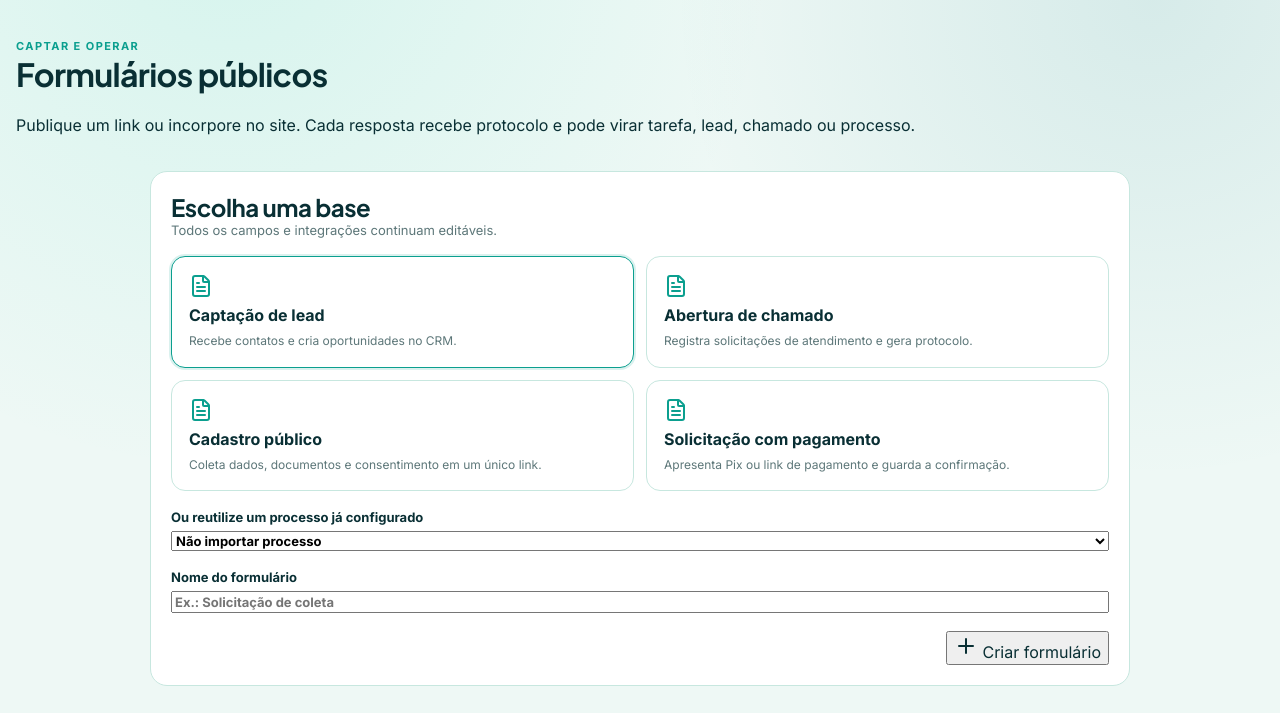
interface de formulários públicos › cria um formulário a partir do processo existente
Step 1. Select "Solicitação de coleta" in the dropdown labelled "Ou reutilize um processo já configurado" → (640, 541), box [171,531,1109,551]
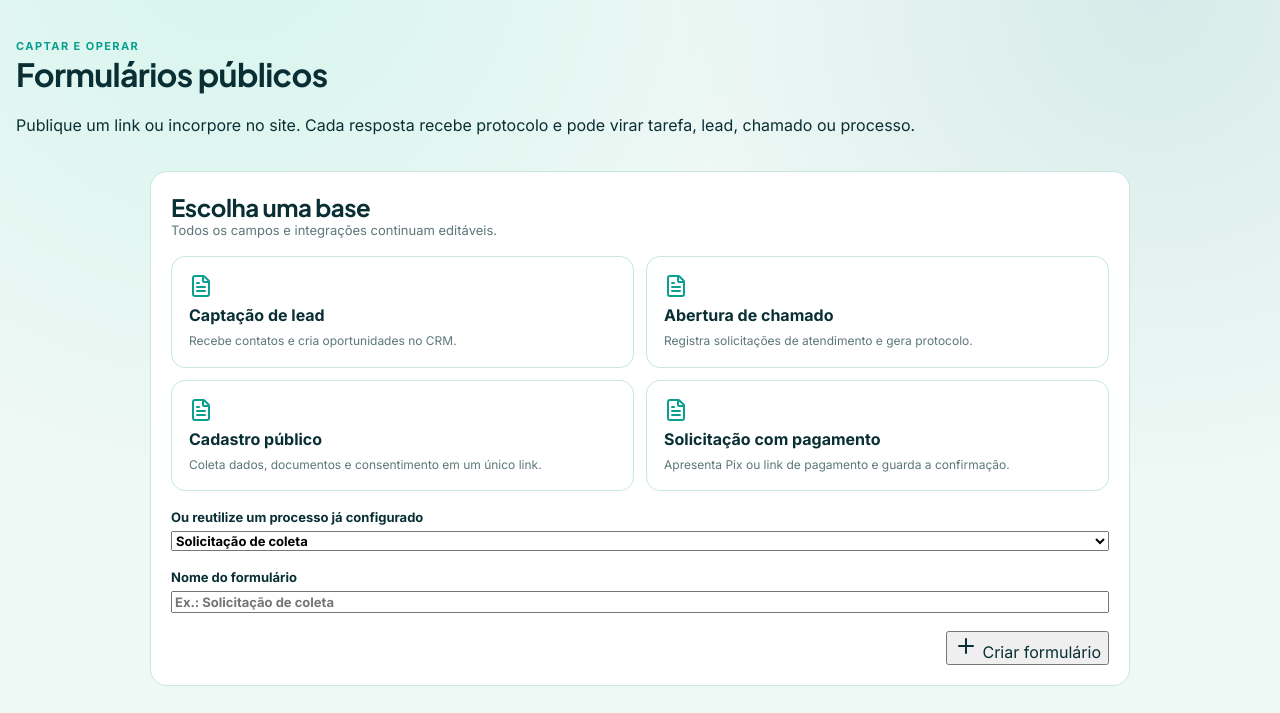
Step 2. Click the button "Criar formulário" → (1027, 648), box [946,631,1109,665]
(page scrolled)
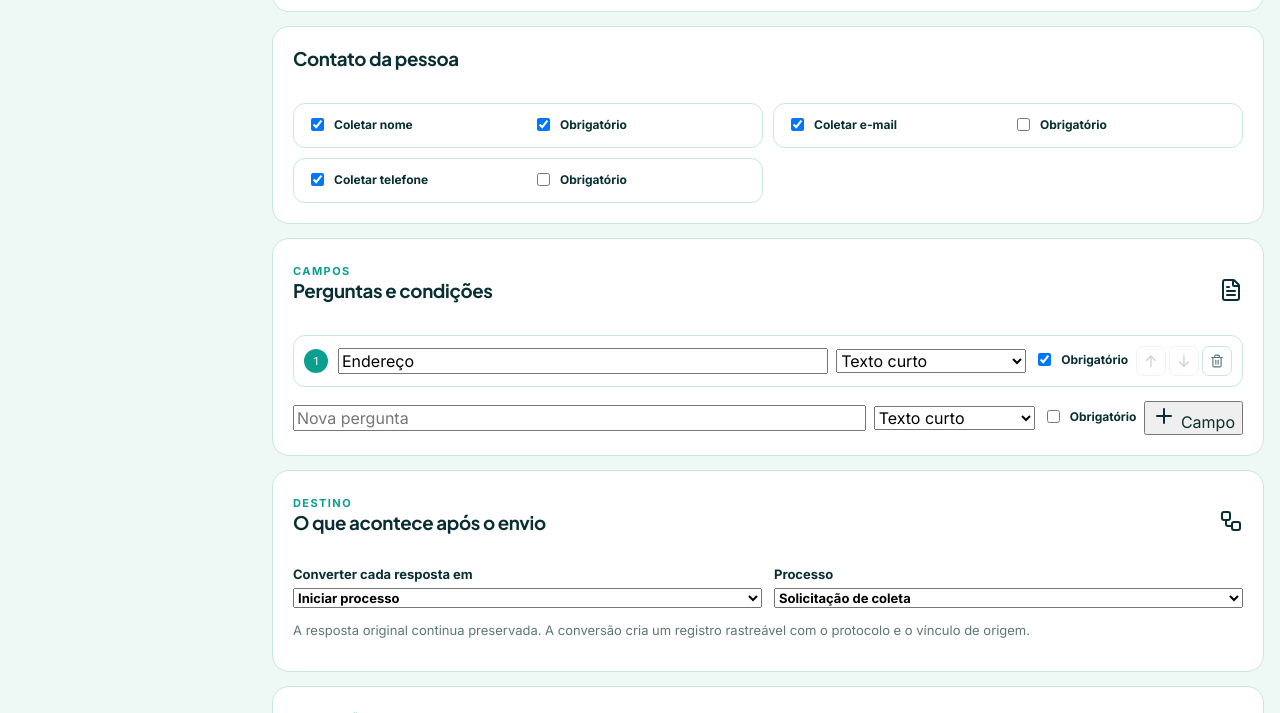
Check: the field showing "Endereço" is shown, box [338,348,828,374]
